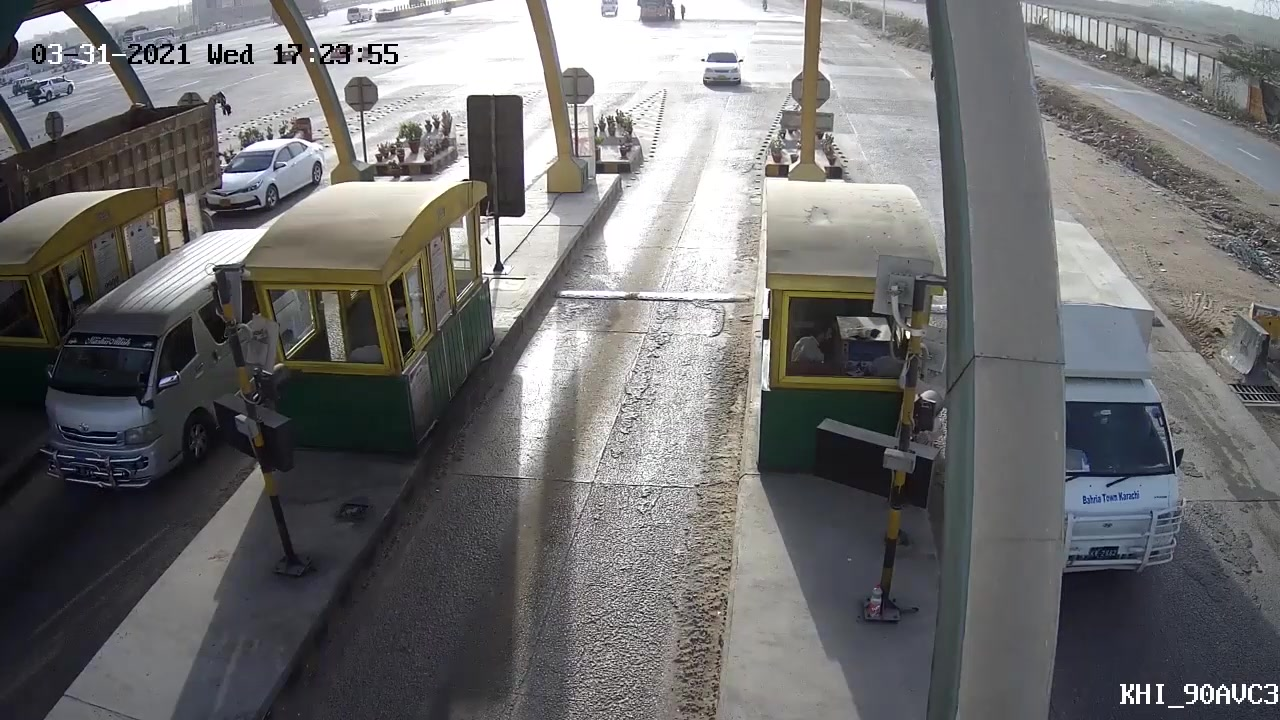F1: (686, 47, 748, 101)
